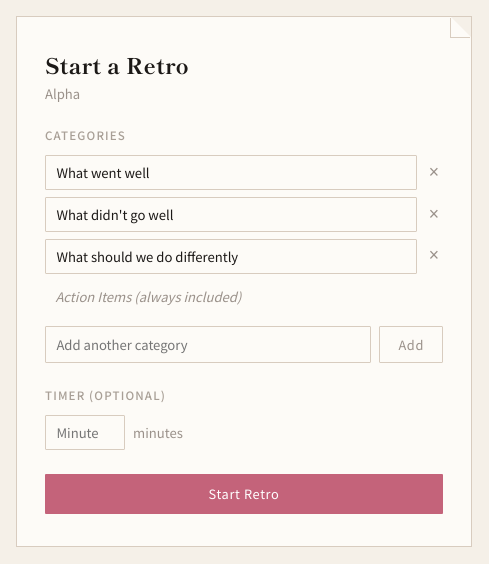
Scenario: RetroSetup — category management › Start button is disabled when all categories are removed
Click the button named "remove what went well": (434, 173) 425,164 -> 443,182
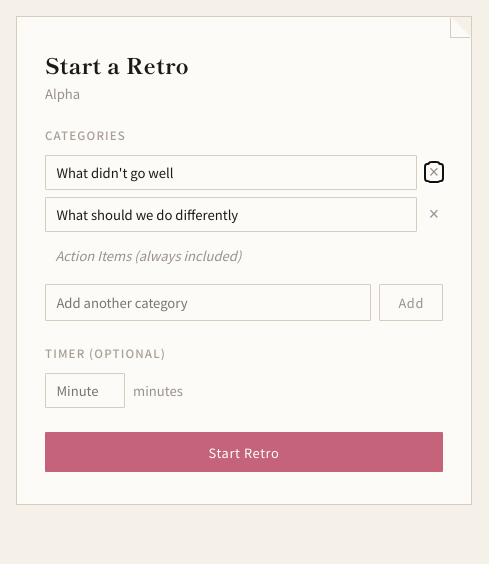
Click the button named "remove what didn't go well": (434, 173) 425,164 -> 443,182
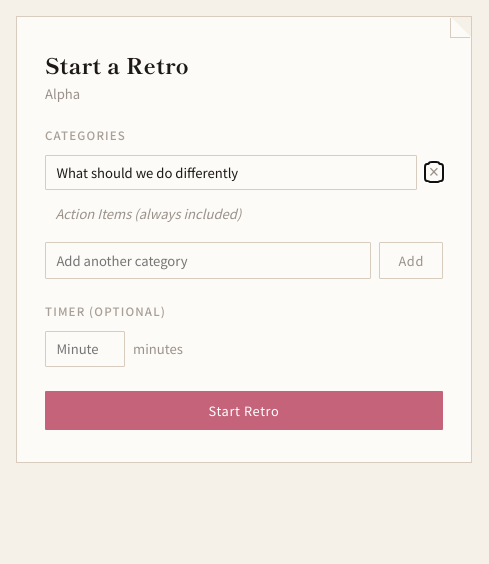
Click the button named "remove what should we do differently": (434, 173) 425,164 -> 443,182
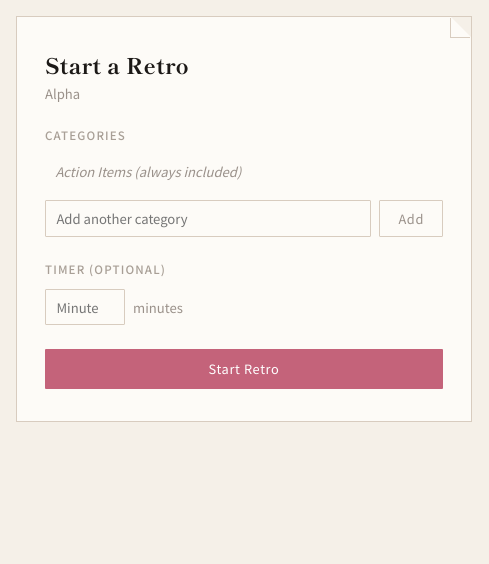
Expected: the button "Start Retro" is disabled, 45,349 -> 443,389
